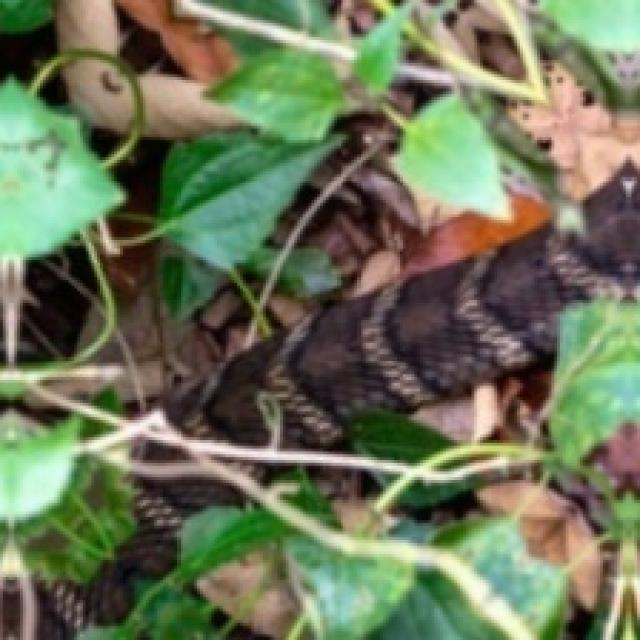king cobra: (166, 165, 640, 447)
